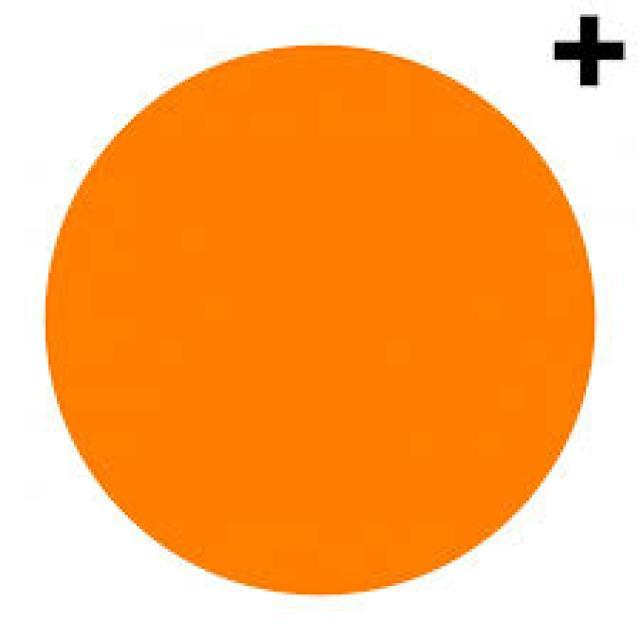Circle: (46, 46, 597, 597)
